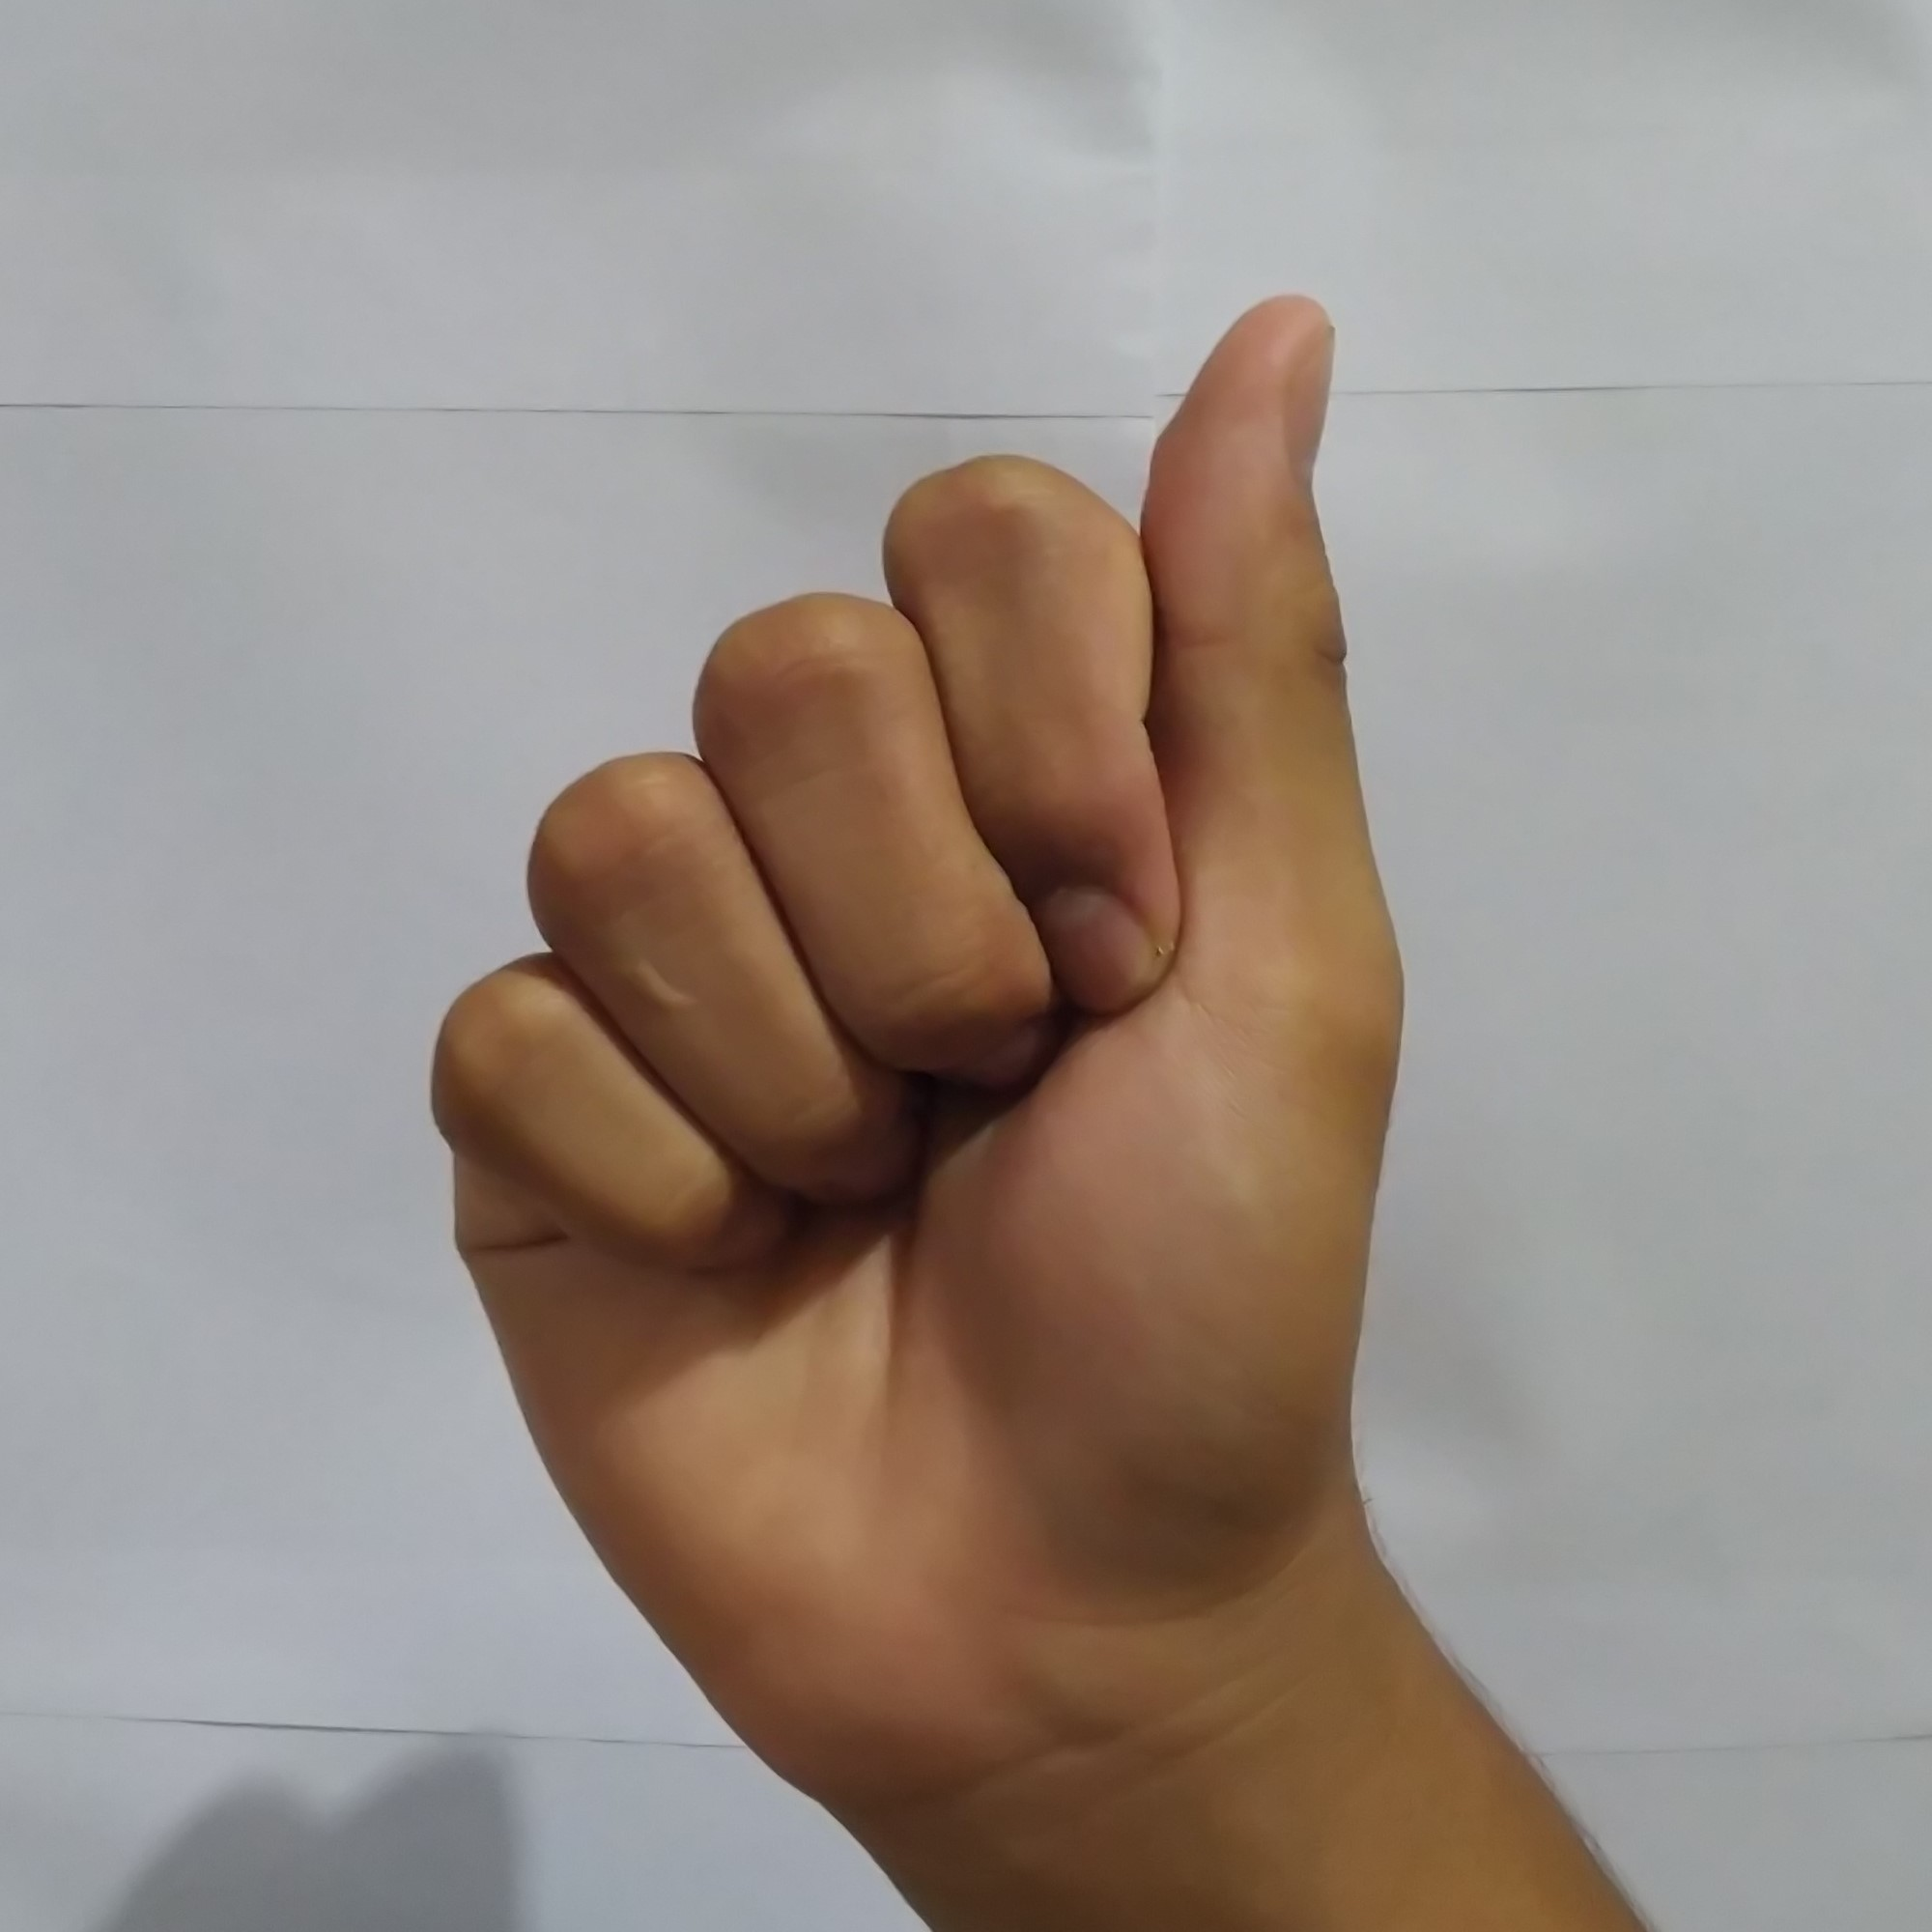A: (410, 274, 1433, 1658)
